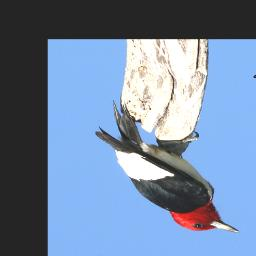Woodpecker: (89, 100, 244, 233)
